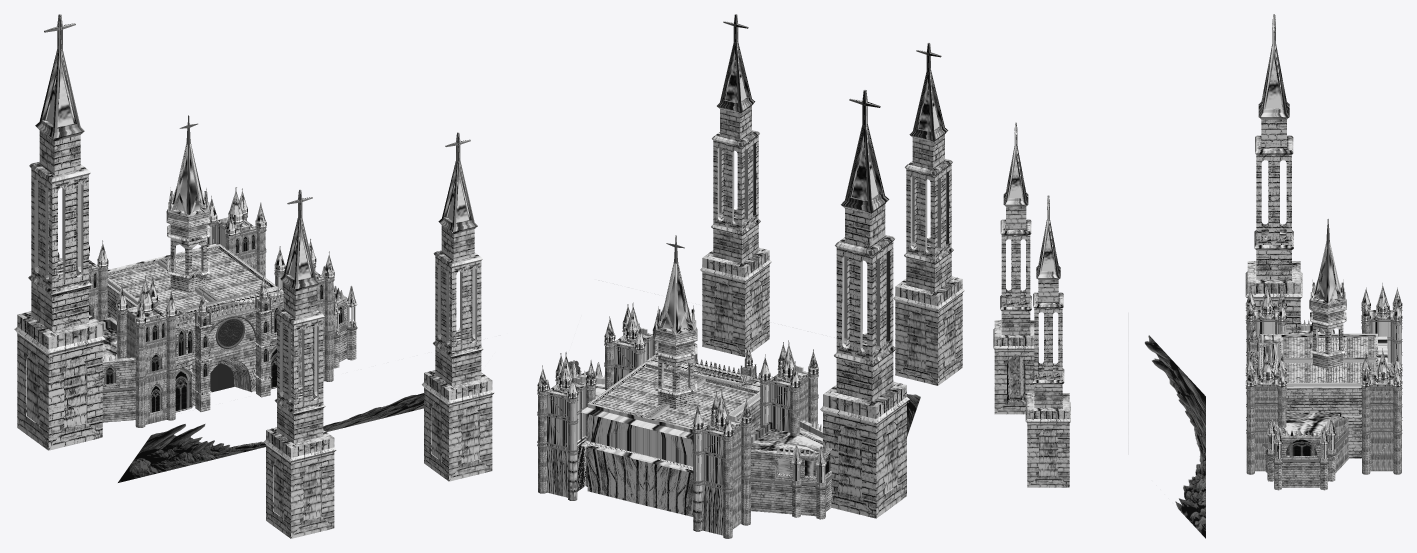
File: vortex_scene.glb
The picture shows the model from 3 angles, left to right: view 1: azimuth 30°, elevation 25°; view 2: azimuth 150°, elevation 25°; view 3: azimuth 270°, elevation 25°; orthographic projection. The views are drawn at different scales.
Parts seen in each view (by area): view 1: Castle_Cathedral, Castle_KeepTower, Tower_Right, Tower_Left, Foreground_Rocks; view 2: Castle_Cathedral, Castle_KeepTower, Tower_Left, Tower_Right; view 3: Castle_Cathedral, Castle_KeepTower, Tower_Right, Tower_Left, Foreground_Rocks.
Part boxes in pixels (x1,y1,x2,y2): Castle_Cathedral: [57, 115, 357, 427]; Castle_KeepTower: [14, 14, 105, 450]; Tower_Right: [422, 132, 494, 481]; Tower_Left: [264, 189, 336, 538]; Foreground_Rocks: [118, 393, 423, 482]; Castle_Cathedral: [537, 235, 834, 538]; Castle_KeepTower: [820, 89, 909, 518]; Tower_Left: [893, 42, 964, 385]; Tower_Right: [700, 14, 771, 356]; Castle_Cathedral: [1245, 219, 1402, 490]; Castle_KeepTower: [1245, 14, 1302, 332]; Tower_Right: [1025, 195, 1070, 487]; Tower_Left: [993, 122, 1034, 414]; Foreground_Rocks: [1145, 335, 1205, 538].
Size of what is drawn, in the model's own units: 7.07 by 7.65 by 7.56.
Materials: 6 (4 with a texture image).
